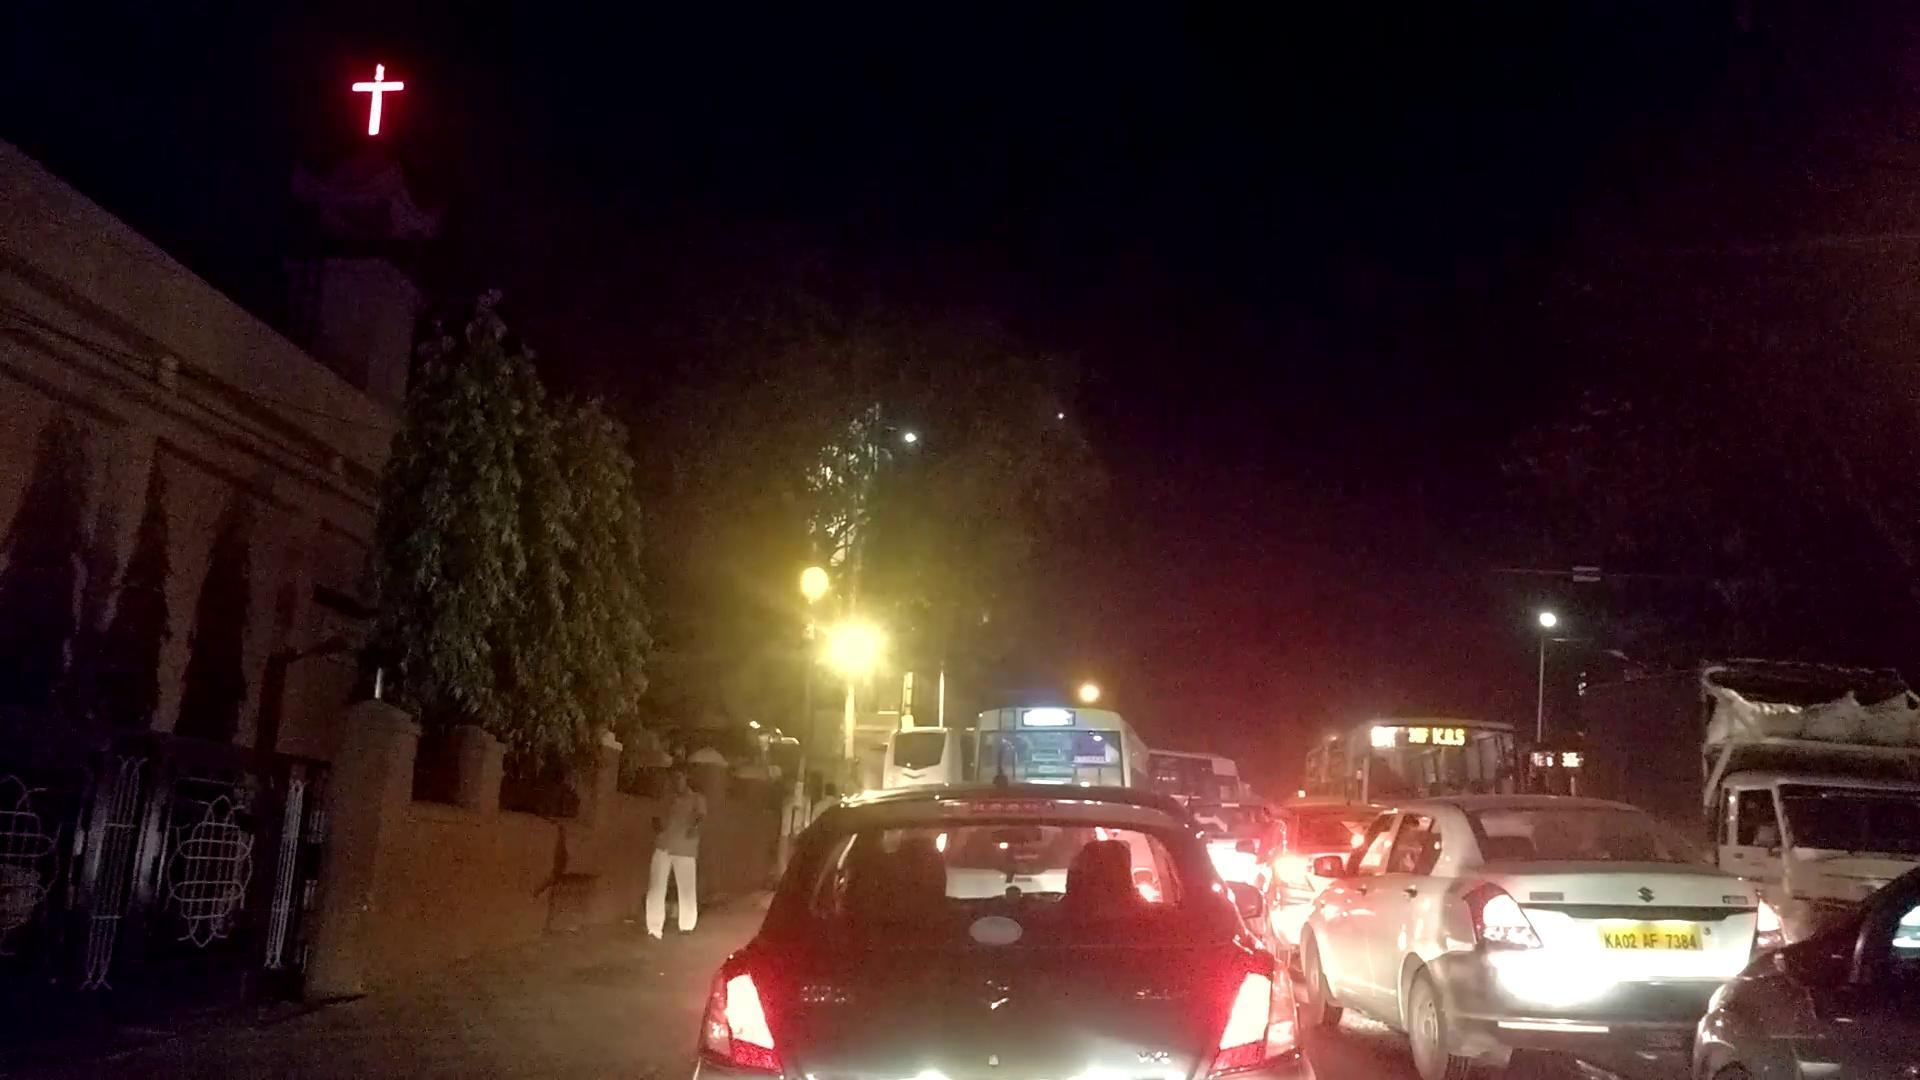on: (720, 502, 1015, 858)
